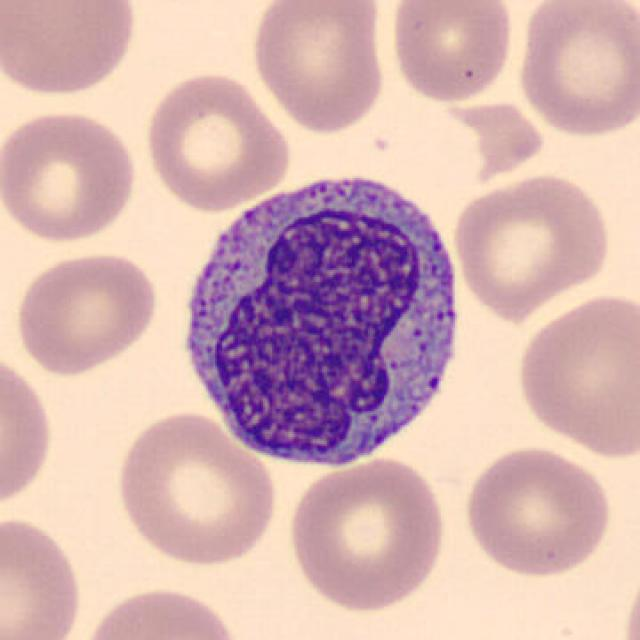Monocyte: (171, 159, 473, 481)
RBC: (110, 408, 281, 570), (284, 455, 450, 613), (448, 169, 615, 321), (510, 289, 640, 460), (140, 69, 294, 213), (459, 441, 615, 580), (10, 247, 162, 379), (0, 104, 142, 245), (247, 0, 389, 136), (512, 0, 638, 141), (0, 0, 142, 100), (386, 0, 517, 106), (0, 511, 87, 640), (0, 346, 59, 518), (73, 582, 247, 640), (618, 553, 640, 640)
